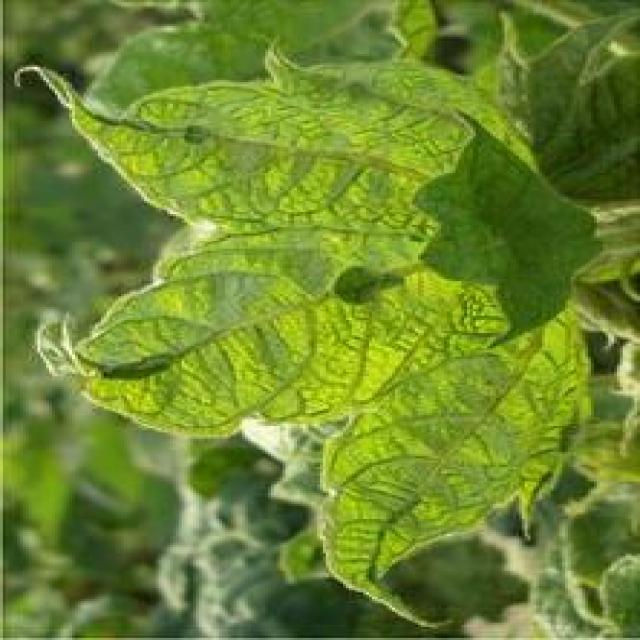Leaf Curl Virus: (115, 82, 615, 522)
